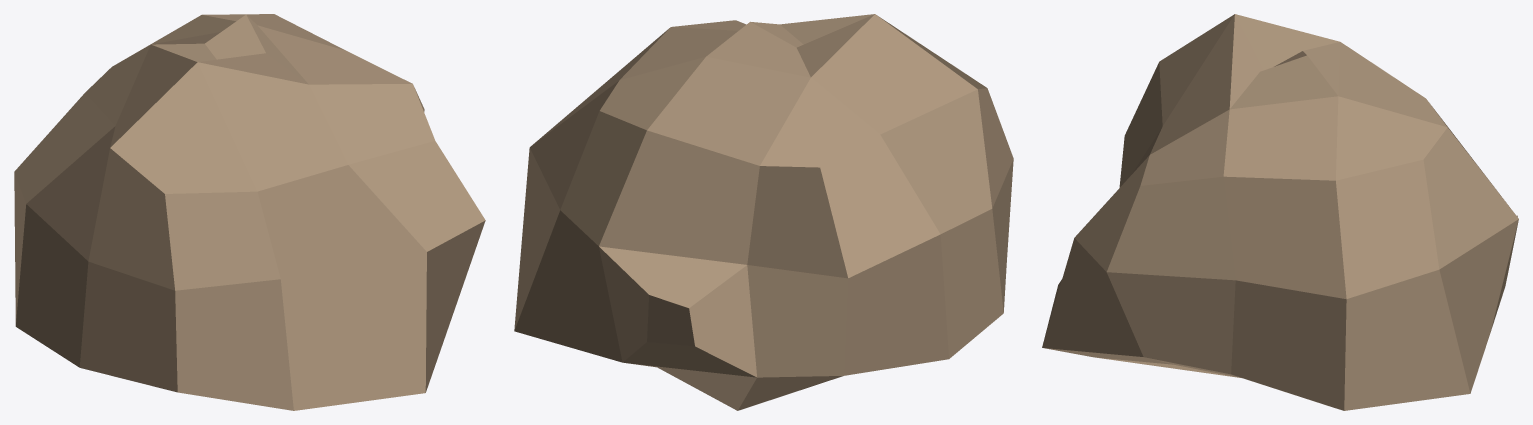
File: sten.fbx
The picture shows the model from 3 angles, left to right: view 1: azimuth 30°, elevation 25°; view 2: azimuth 150°, elevation 25°; view 3: azimuth 270°, elevation 25°; orthographic projection. The views are drawn at different scales.
Visible parts, largest first — view 1: sten; view 2: sten; view 3: sten.
Part boxes in pixels (x1,y1,x2,y2): sten: (14,14,485,410); sten: (514,14,1013,410); sten: (1042,14,1518,410).
Bounding box in the file's own units: 631 × 446 × 661.
